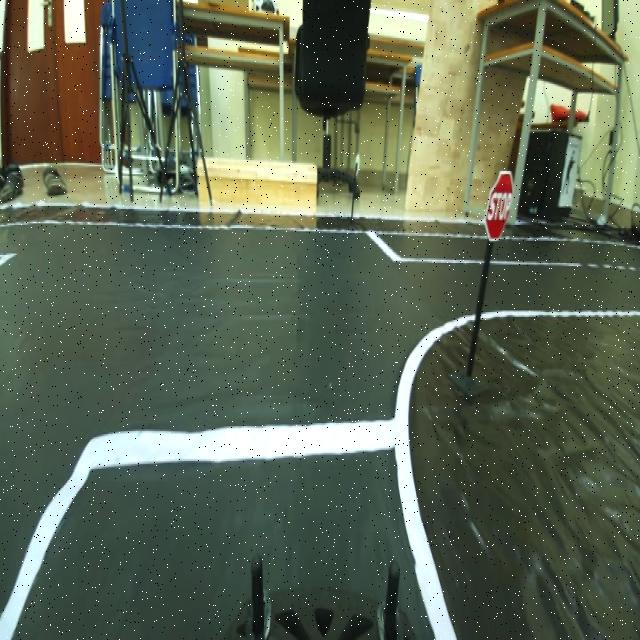stop: (480, 158, 514, 246)
